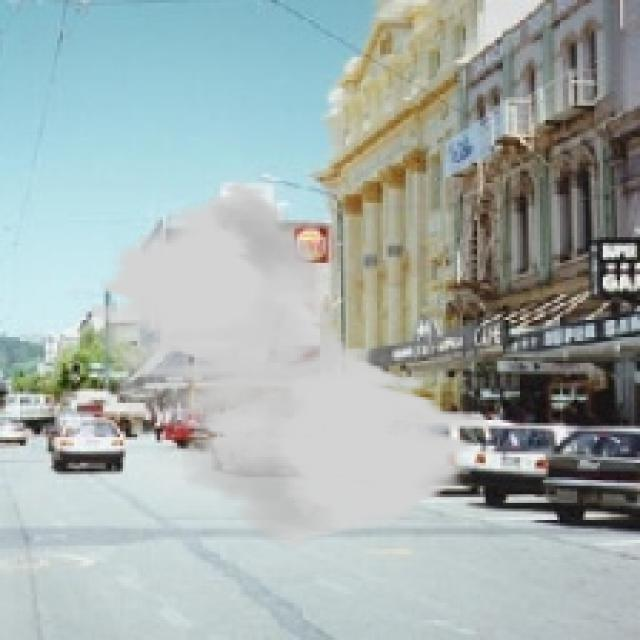Smoke: (89, 180, 488, 549)
